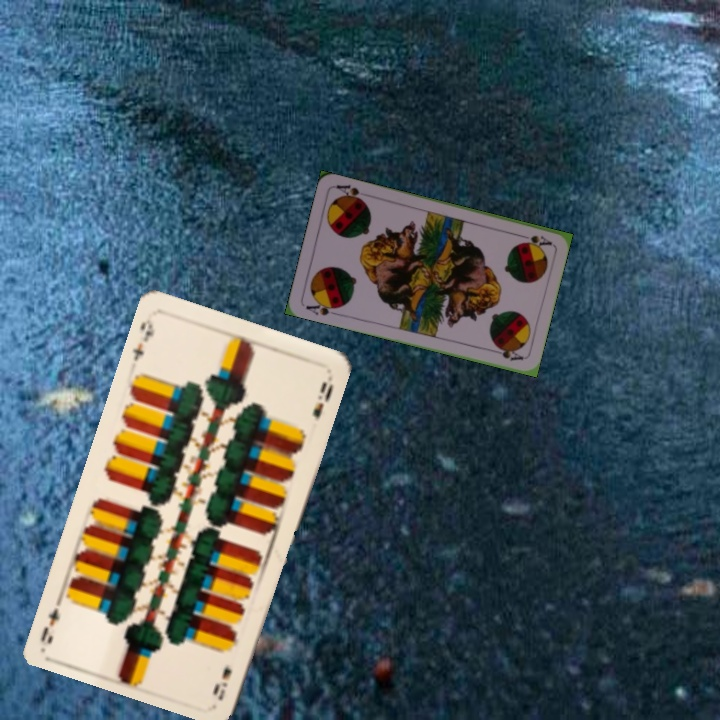E9: (128, 314, 157, 364), (209, 660, 235, 703)
SA: (302, 296, 343, 319), (514, 230, 554, 249)
